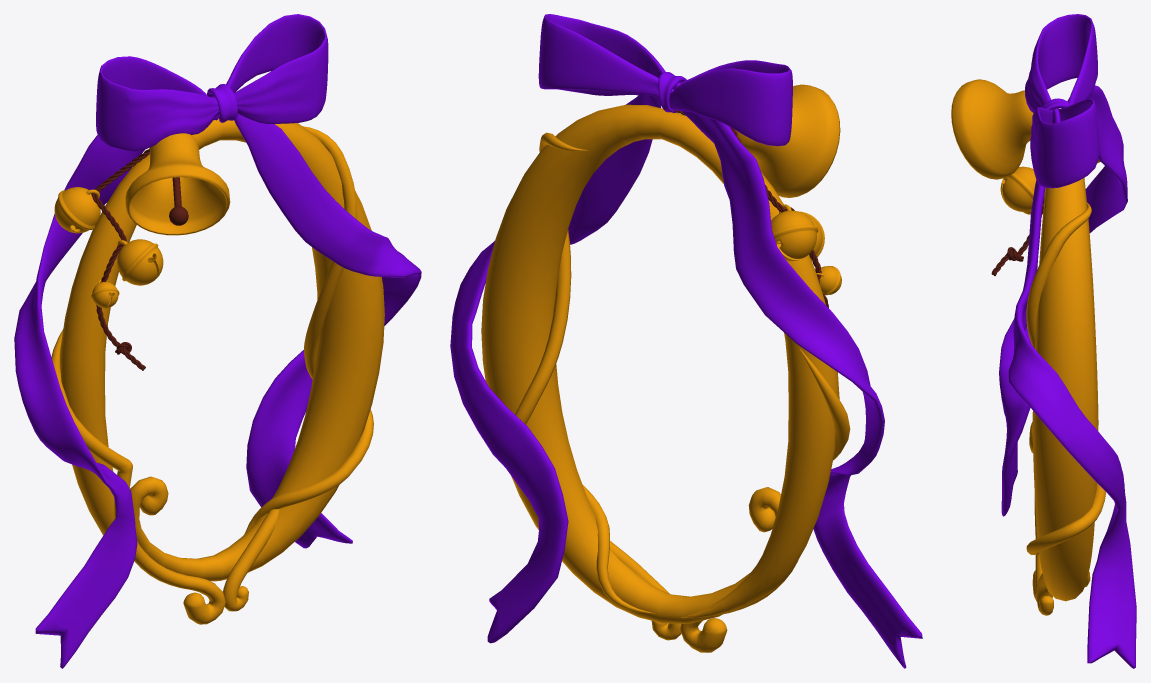
File: S_portal.fbx
The picture shows the model from 3 angles, left to right: view 1: azimuth 30°, elevation 25°; view 2: azimuth 150°, elevation 25°; view 3: azimuth 270°, elevation 25°; orthographic projection. The views are drawn at different scales.
Visible parts, largest first — view 1: fbx; view 2: fbx; view 3: fbx.
Boxes of the visible parts, left/top/right/bottom form: fbx: left=14, top=14, right=421, bottom=668; fbx: left=450, top=14, right=922, bottom=668; fbx: left=951, top=14, right=1136, bottom=668.
Bounding box in the file's own units: 189 × 254 × 77.52.
